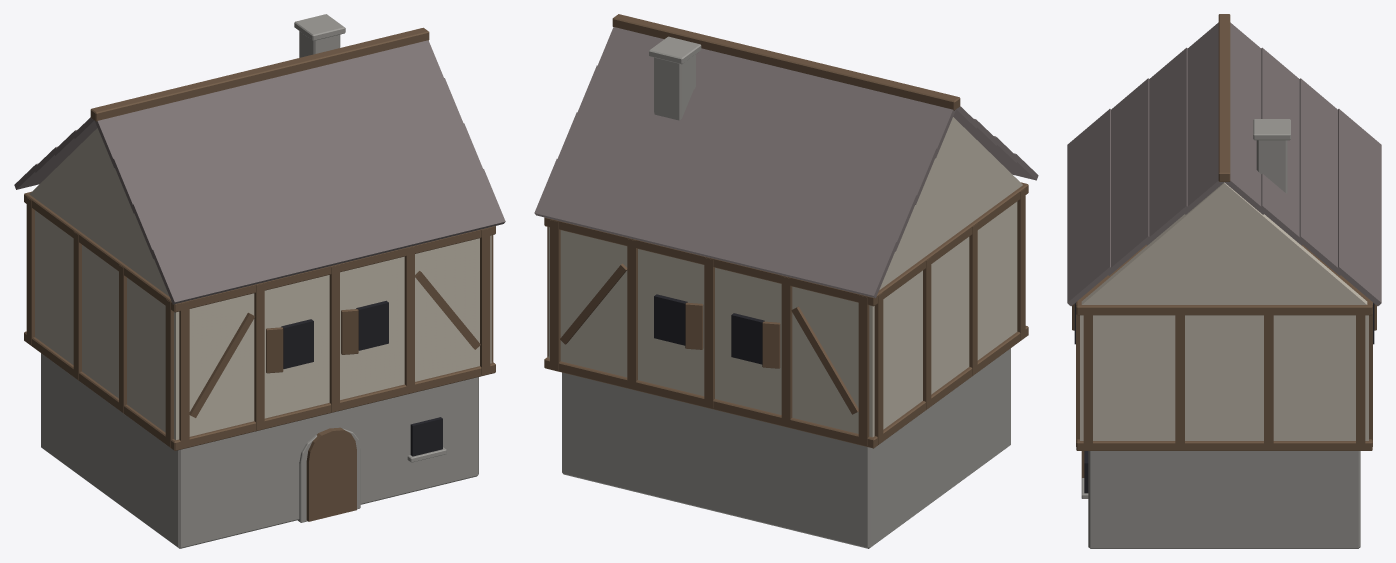
The model's file is house.glb.
3 views of the same model, side by side, from view 1: azimuth 30°, elevation 25°; view 2: azimuth 150°, elevation 25°; view 3: azimuth 270°, elevation 25° (orthographic). The views are drawn at different scales.
Parts seen in each view (by area): view 1: house; view 2: house; view 3: house.
Boxes of the visible parts, x1,y1,x2,y2 form: house: (14,14,505,548); house: (534,14,1038,548); house: (1067,14,1381,548).
Bounding box in the file's own units: 11.1 × 12.75 × 9.24.
